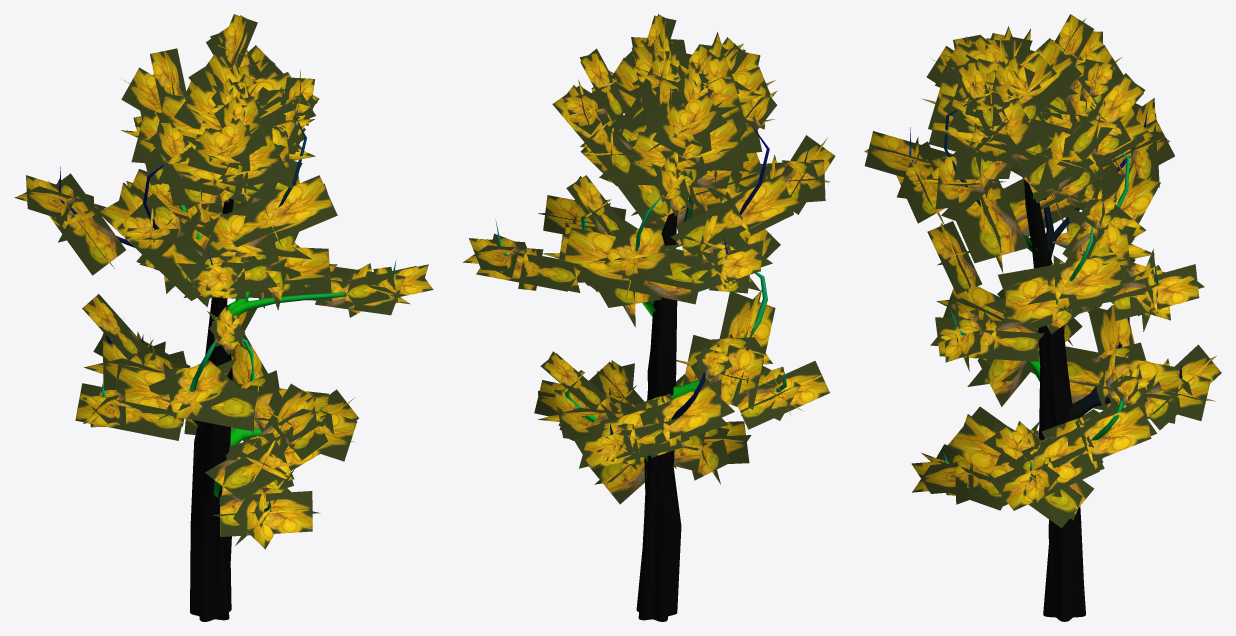
The model's file is arvore_folha_amarela_variante_1.fbx.
3 views of the same model, side by side, from view 1: azimuth 30°, elevation 25°; view 2: azimuth 150°, elevation 25°; view 3: azimuth 270°, elevation 25° (orthographic). The views are drawn at different scales.
Parts seen in each view (by area): view 1: branch07_1, bark01_0; view 2: branch07_1, bark01_0; view 3: branch07_1, bark01_0.
Boxes of the visible parts, x1=… form: branch07_1: x1=14, y1=14, x2=433, y2=549; bark01_0: x1=59, y1=58, x2=396, y2=621; branch07_1: x1=463, y1=14, x2=835, y2=504; bark01_0: x1=495, y1=109, x2=809, y2=621; branch07_1: x1=864, y1=14, x2=1221, y2=528; bark01_0: x1=909, y1=98, x2=1182, y2=621.
Bounding box in the file's own units: 452 × 784 × 437.
